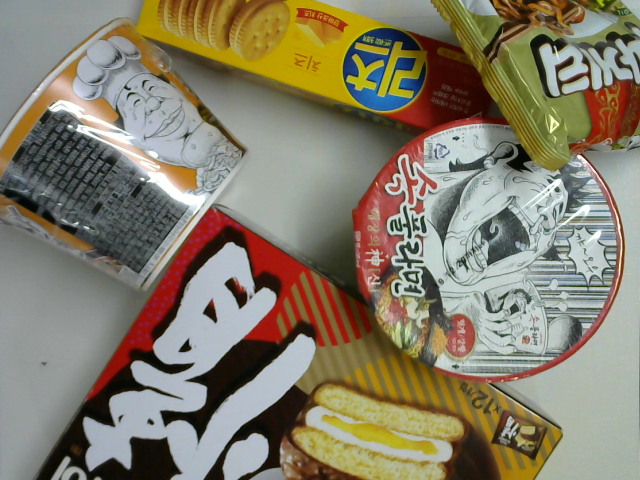Choco_Pie_Banana: (34, 201, 563, 480)
Hejangchan: (1, 17, 249, 298)
Hejangpul: (353, 113, 629, 383)
Olive_Chapaghetti: (429, 1, 640, 173)
Ritz_Sand_Cracker: (129, 1, 511, 147)
